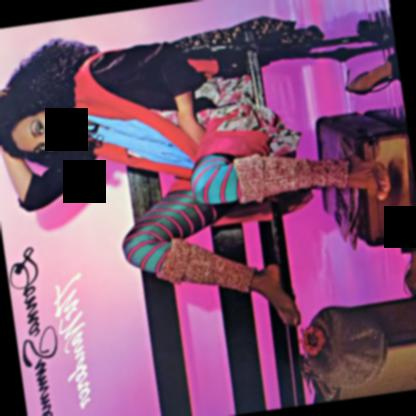suitcase: (317, 108, 410, 243), (309, 295, 416, 404)
